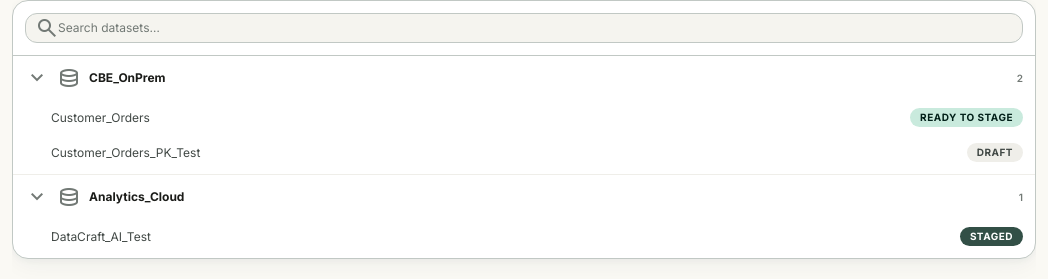
Test: ConnectionDatasetExplorer › filters datasets by search text
In the field with placeholder "Search datasets…": (524, 28) [25,13,1023,43], type "DataCraft"
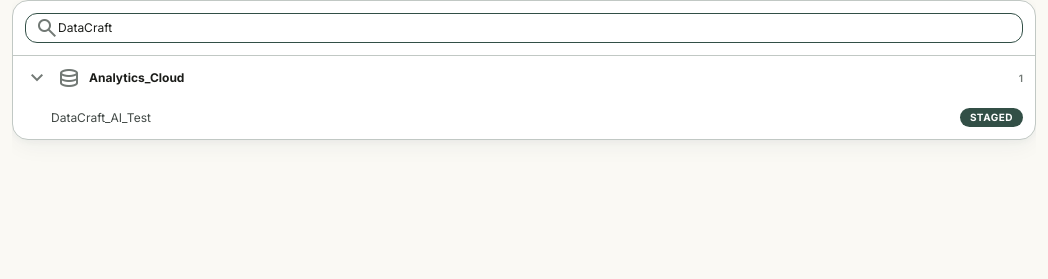
Check: the text "DataCraft_AI_Test" is shown, box [51,110,151,124]
Check: the button "Customer_Orders" is gone
Check: the button "CBE_OnPrem" is gone
